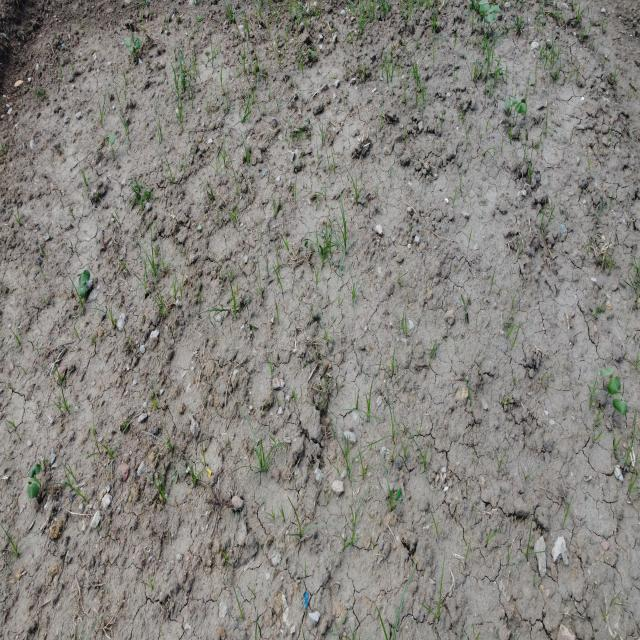seedling: (606, 375, 621, 395), (613, 398, 627, 415), (79, 269, 90, 287), (27, 482, 39, 498), (29, 464, 40, 478), (515, 102, 527, 114), (600, 367, 614, 377), (28, 476, 40, 485), (615, 392, 627, 401), (133, 38, 142, 49), (109, 132, 116, 145), (487, 12, 496, 22), (78, 285, 85, 297), (480, 4, 490, 12), (486, 6, 496, 14), (505, 96, 511, 109), (125, 36, 131, 47), (494, 5, 500, 14), (479, 0, 489, 5), (130, 44, 134, 54), (305, 239, 309, 249)
